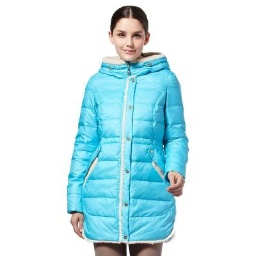face: (107, 4, 155, 62)
